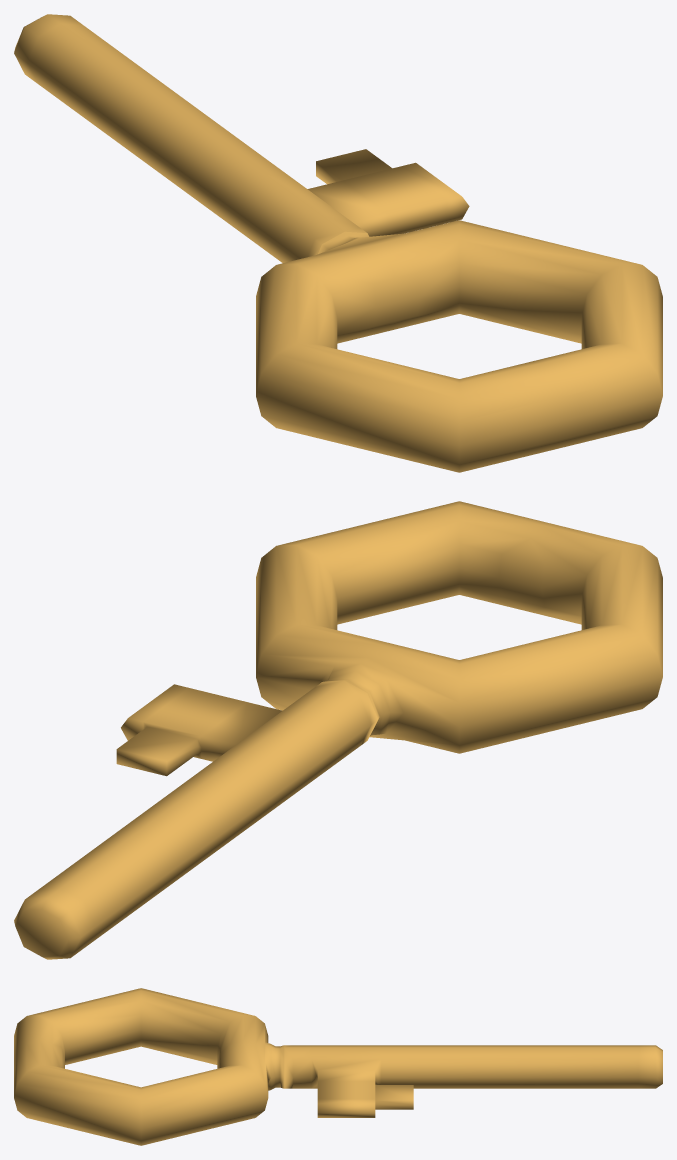
File: KeyReflected.fbx
The picture shows the model from 3 angles, top to bottom: view 1: azimuth 30°, elevation 25°; view 2: azimuth 150°, elevation 25°; view 3: azimuth 270°, elevation 25°; orthographic projection. The views are drawn at different scales.
Parts seen in each view (by area): view 1: ReflectedKey; view 2: ReflectedKey; view 3: ReflectedKey.
Boxes of the visible parts, left/top/right/bottom form: ReflectedKey: left=14, top=14, right=662, bottom=472; ReflectedKey: left=14, top=501, right=662, bottom=959; ReflectedKey: left=14, top=988, right=662, bottom=1145.
Bounding box in the file's own units: 10.91 × 2.18 × 24.12.
